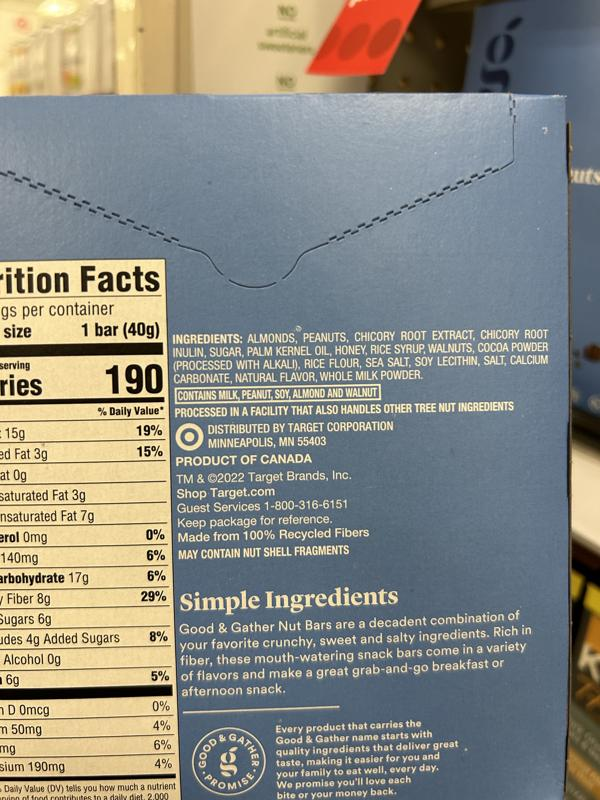ingredients: (172, 328, 551, 384)
